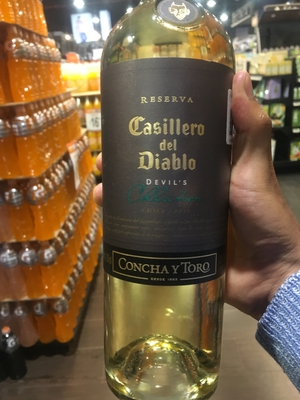casillero del diablo devils collection verde: (89, 11, 244, 400)
